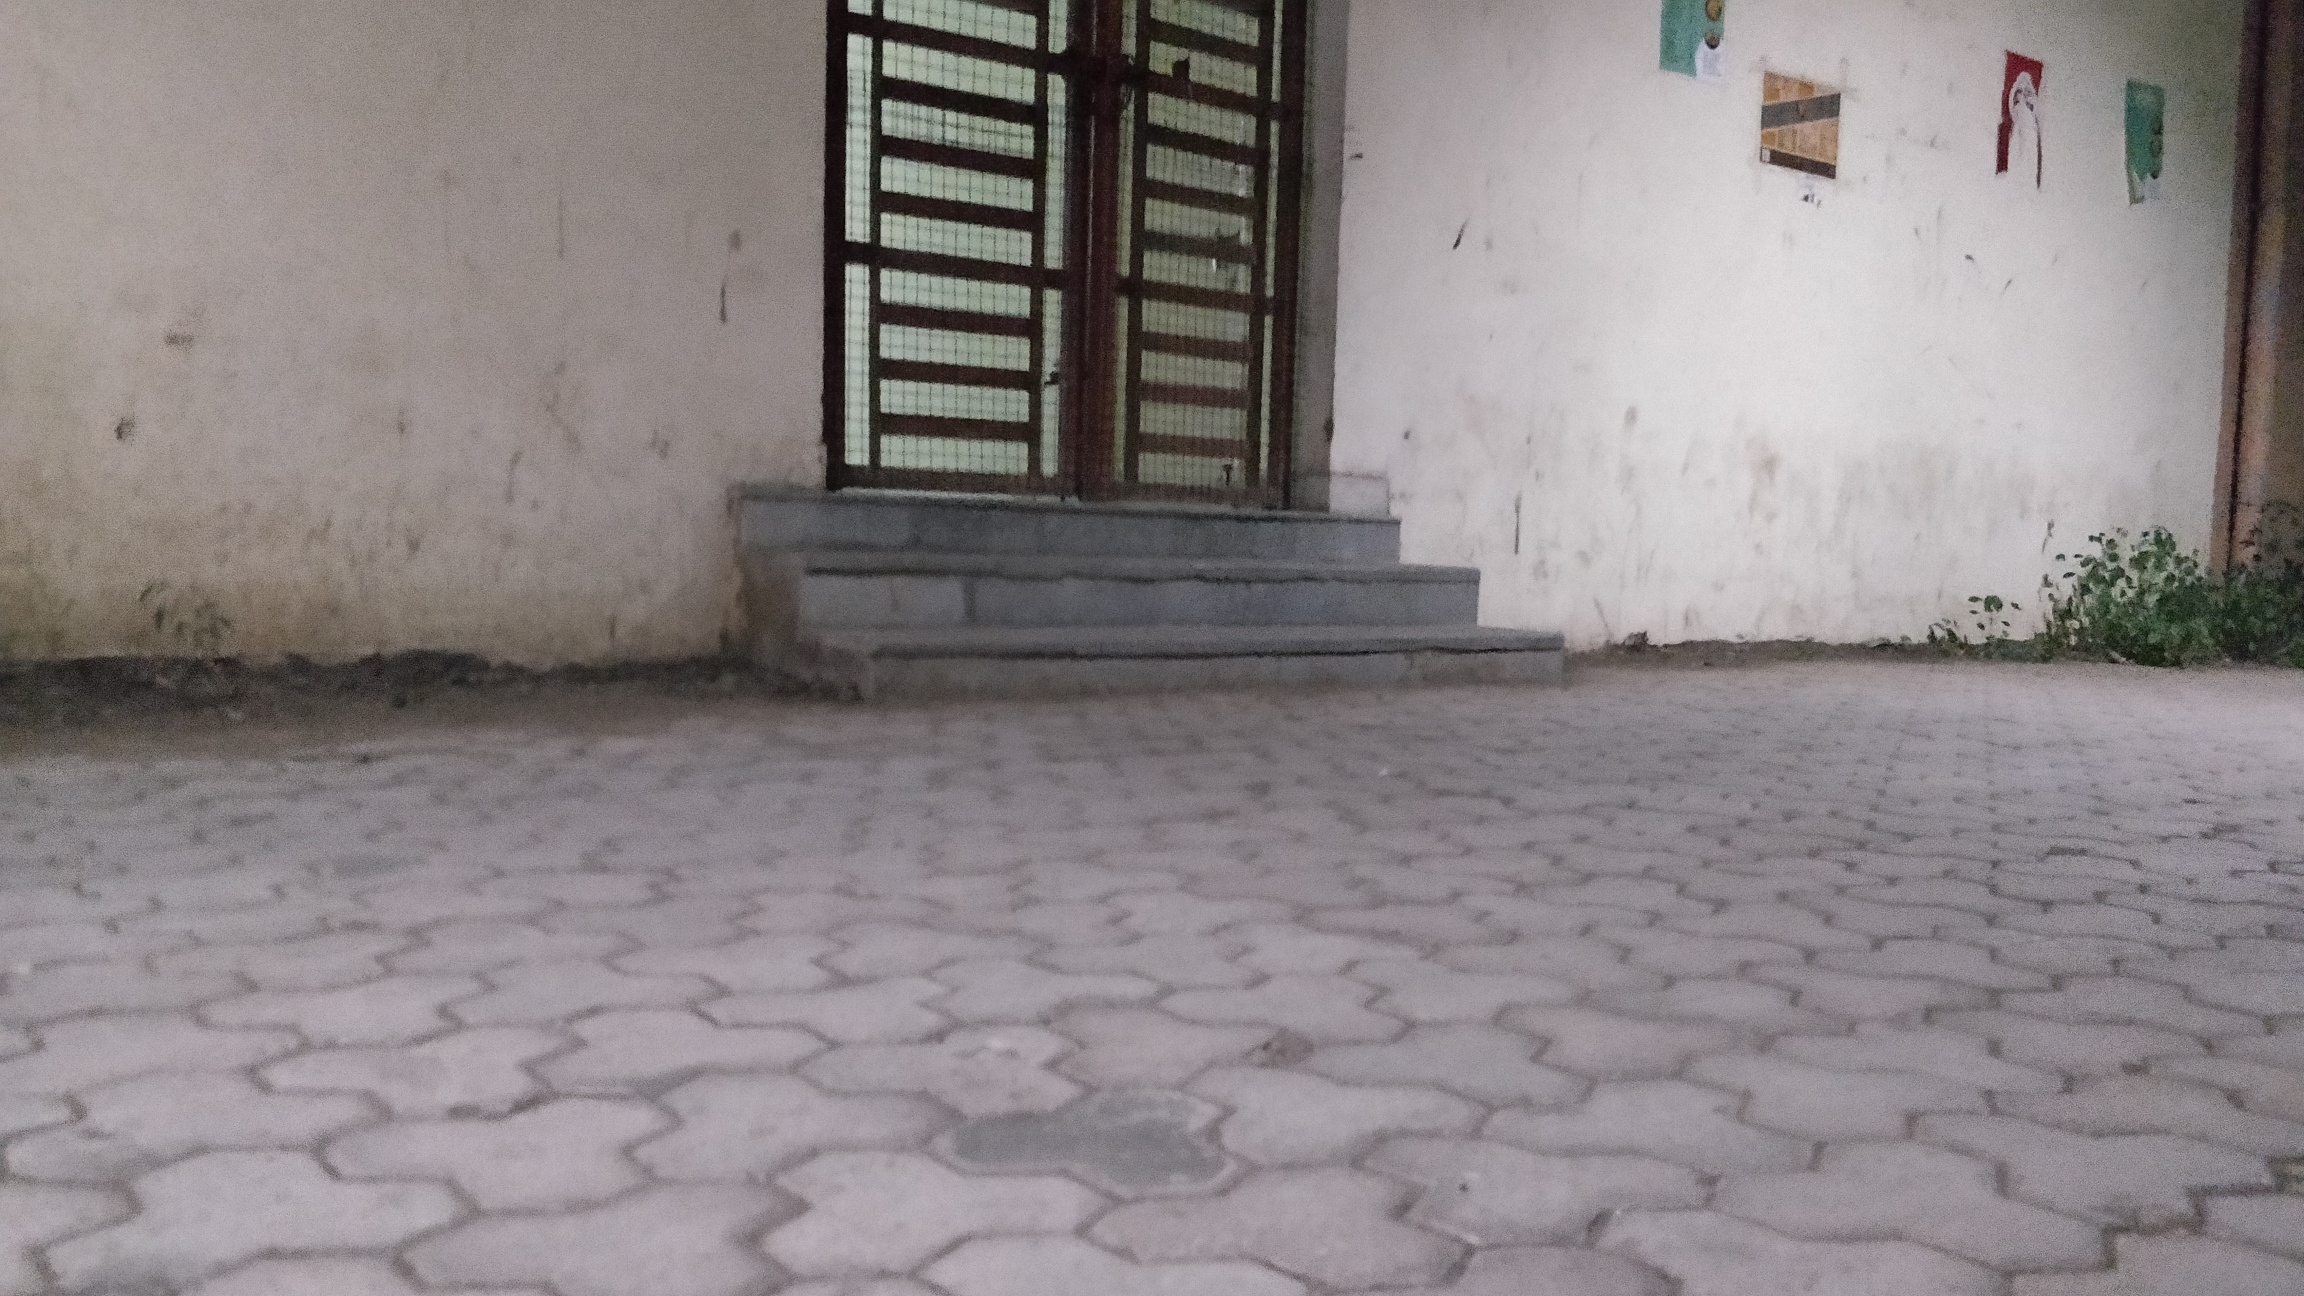stairs_up: (699, 481, 1586, 673)
